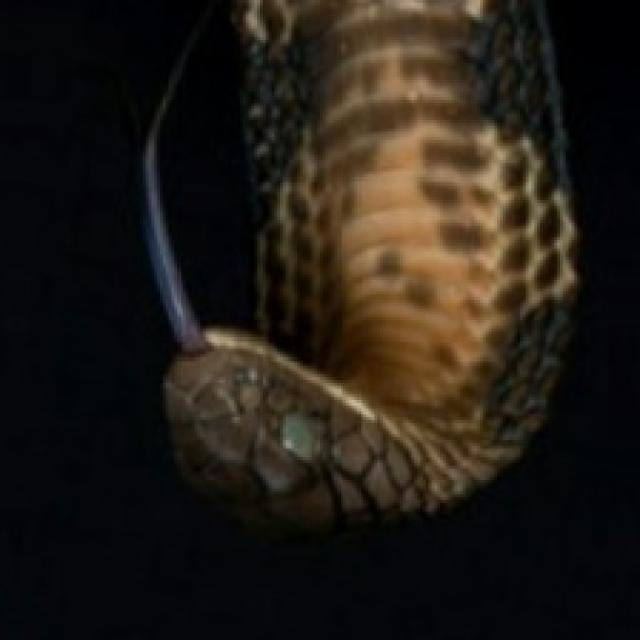king cobra: (146, 0, 574, 531)
